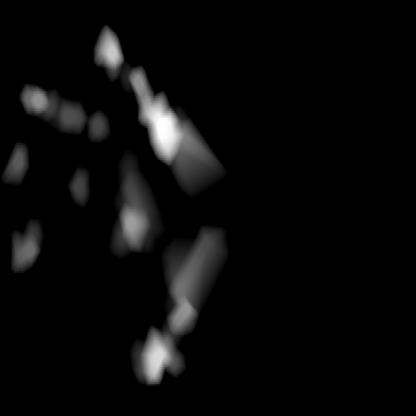fingers: (133, 325, 186, 382)
palm: (2, 25, 122, 271)
thumb: (113, 109, 224, 327)
